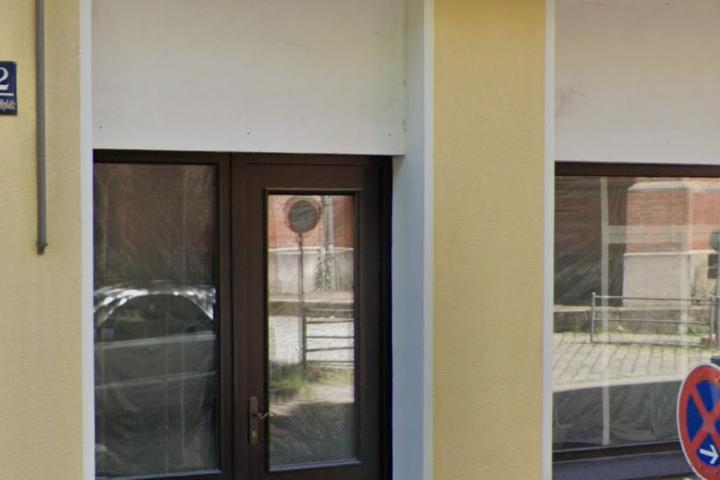traffic_sign: (674, 364, 720, 480), (286, 199, 319, 234)
